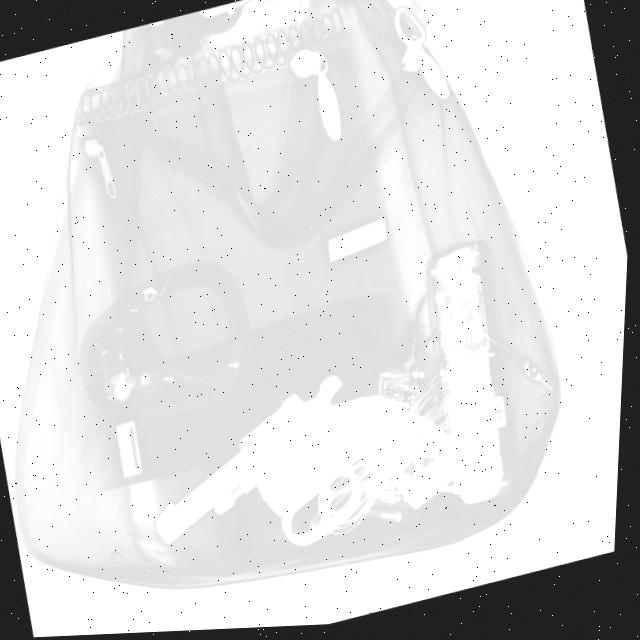pistol: (134, 345, 483, 584)
